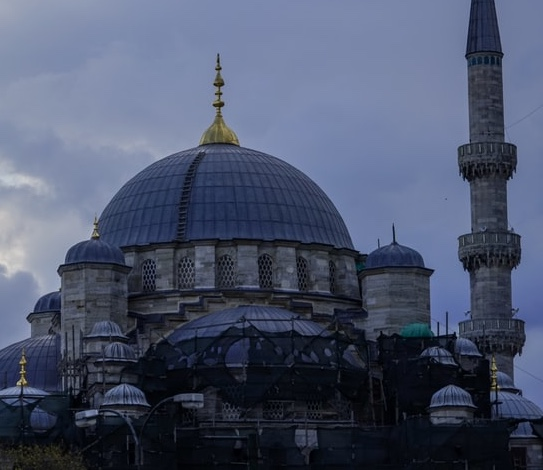Mosque: (25, 49, 517, 449)
